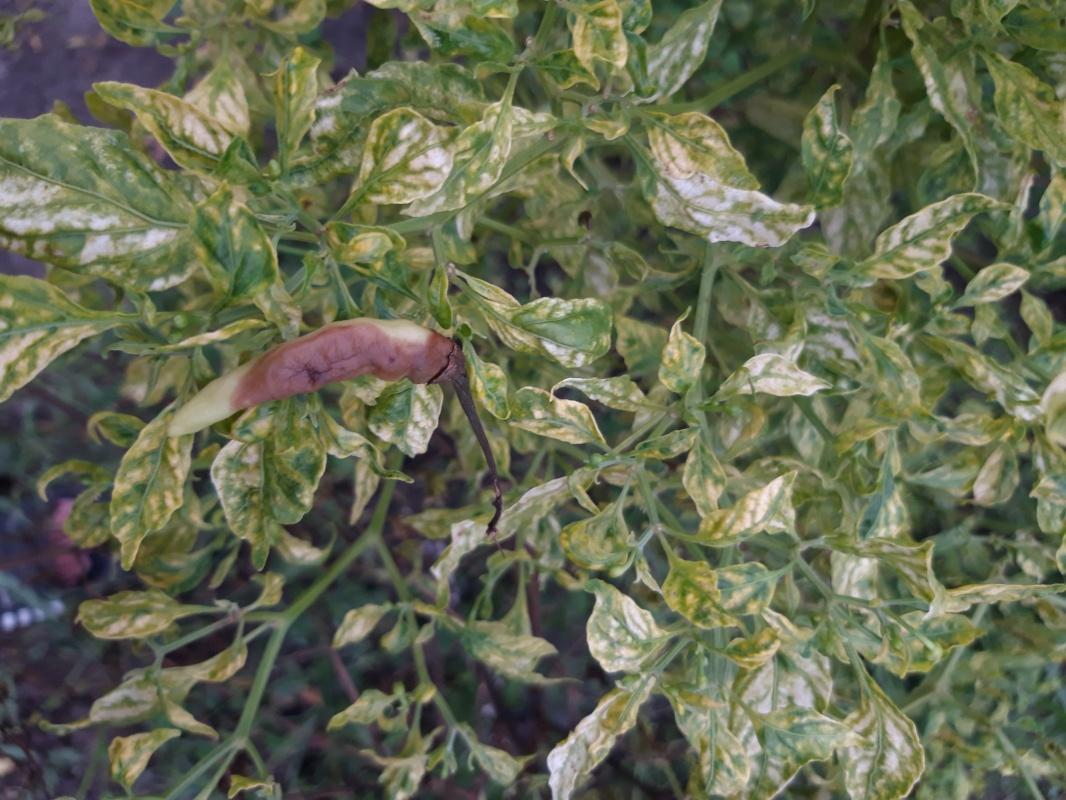lalat_buah: (164, 315, 466, 439)
